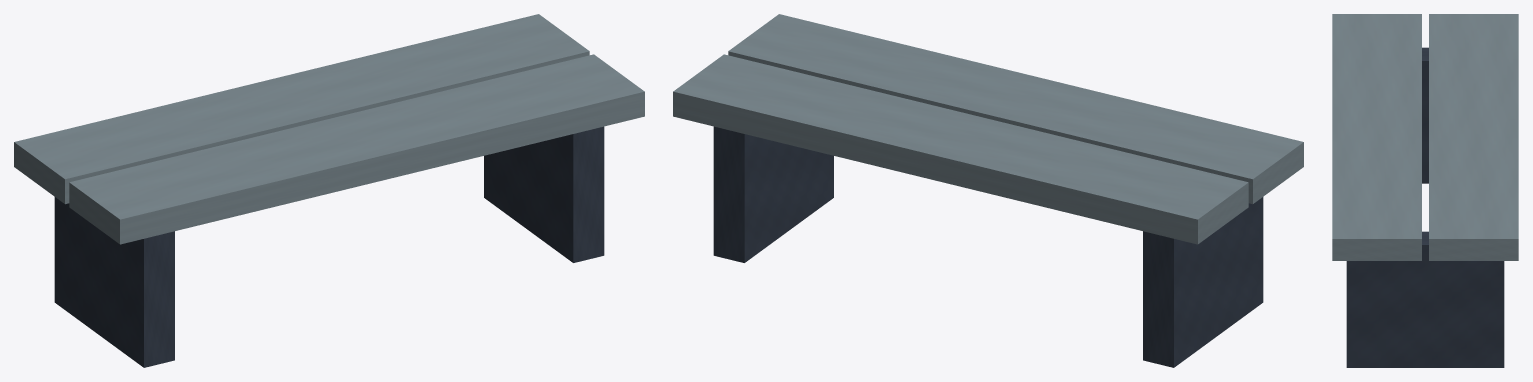
Rendered from atlas100-basalt-util03.lod1.glb.
3 renders of one model, left to right at view 1: azimuth 30°, elevation 25°; view 2: azimuth 150°, elevation 25°; view 3: azimuth 270°, elevation 25°, orthographic. The views are drawn at different scales.
Parts seen in each view (by area): view 1: atlas100-basalt-util03:part-004, atlas100-basalt-util03:part-002, atlas100-basalt-util03:part-000, atlas100-basalt-util03:part-001; view 2: atlas100-basalt-util03:part-002, atlas100-basalt-util03:part-004, atlas100-basalt-util03:part-000, atlas100-basalt-util03:part-001; view 3: atlas100-basalt-util03:part-002, atlas100-basalt-util03:part-004, atlas100-basalt-util03:part-001, atlas100-basalt-util03:part-000.
Boxes of the visible parts, bbox=[...] form: atlas100-basalt-util03:part-004: bbox=[69, 54, 644, 244]; atlas100-basalt-util03:part-002: bbox=[14, 14, 589, 204]; atlas100-basalt-util03:part-000: bbox=[54, 197, 174, 367]; atlas100-basalt-util03:part-001: bbox=[484, 126, 604, 262]; atlas100-basalt-util03:part-002: bbox=[673, 54, 1248, 244]; atlas100-basalt-util03:part-004: bbox=[728, 14, 1303, 204]; atlas100-basalt-util03:part-000: bbox=[1143, 197, 1263, 367]; atlas100-basalt-util03:part-001: bbox=[713, 126, 833, 262]; atlas100-basalt-util03:part-002: bbox=[1429, 14, 1518, 260]; atlas100-basalt-util03:part-004: bbox=[1332, 14, 1421, 260]; atlas100-basalt-util03:part-001: bbox=[1346, 231, 1504, 367]; atlas100-basalt-util03:part-000: bbox=[1422, 47, 1428, 183].
Size of the model in its own units: 2.35 by 0.6949 by 0.8231.
Materials: 2 (2 with a texture image).
